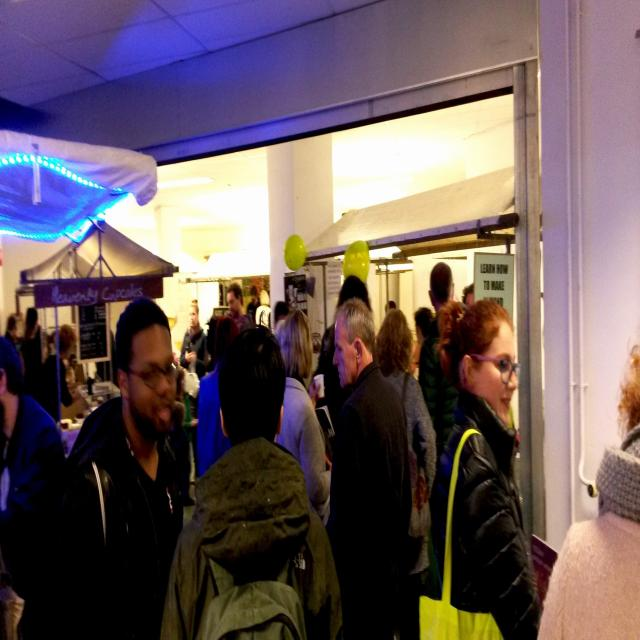body: (21, 295, 194, 640), (160, 326, 344, 639), (414, 295, 552, 640), (532, 332, 640, 640), (329, 297, 407, 637), (374, 306, 436, 577), (272, 309, 334, 531), (0, 335, 68, 524), (312, 272, 374, 459), (418, 262, 460, 469), (197, 315, 241, 479), (413, 305, 455, 462), (180, 298, 210, 484), (39, 324, 83, 422), (20, 306, 45, 408), (226, 282, 254, 336), (46, 329, 78, 369), (254, 289, 272, 330), (246, 285, 262, 321), (274, 298, 294, 322), (461, 281, 478, 307), (5, 314, 16, 341), (384, 297, 396, 313)
